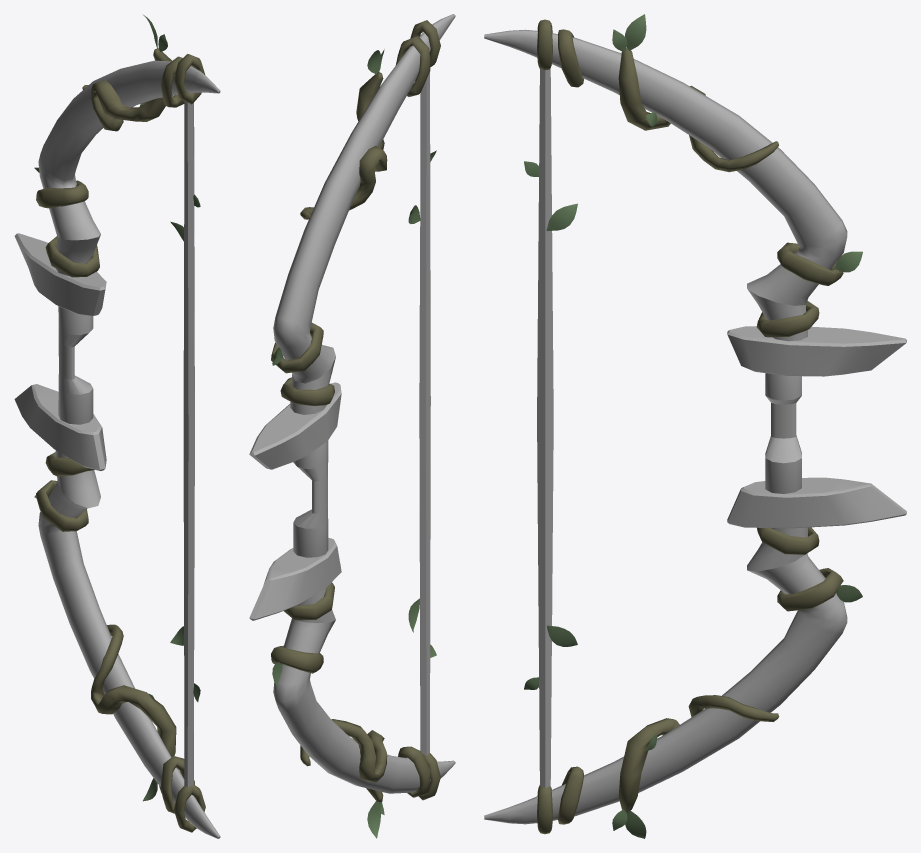
The model's file is bow_BlendShape_V2.fbx.
3 views of the same model, side by side, from view 1: azimuth 30°, elevation 25°; view 2: azimuth 150°, elevation 25°; view 3: azimuth 270°, elevation 25° (orthographic). The views are drawn at different scales.
Visible parts, largest first — view 1: Bow_string1; view 2: Bow_string1; view 3: Bow_string1.
Part boxes in pixels (x1,y1,x2,y2): Bow_string1: (14, 15, 220, 838); Bow_string1: (249, 14, 455, 838); Bow_string1: (484, 14, 906, 838).
Bounding box in the file's own units: 3.33 × 47.07 × 21.86.
